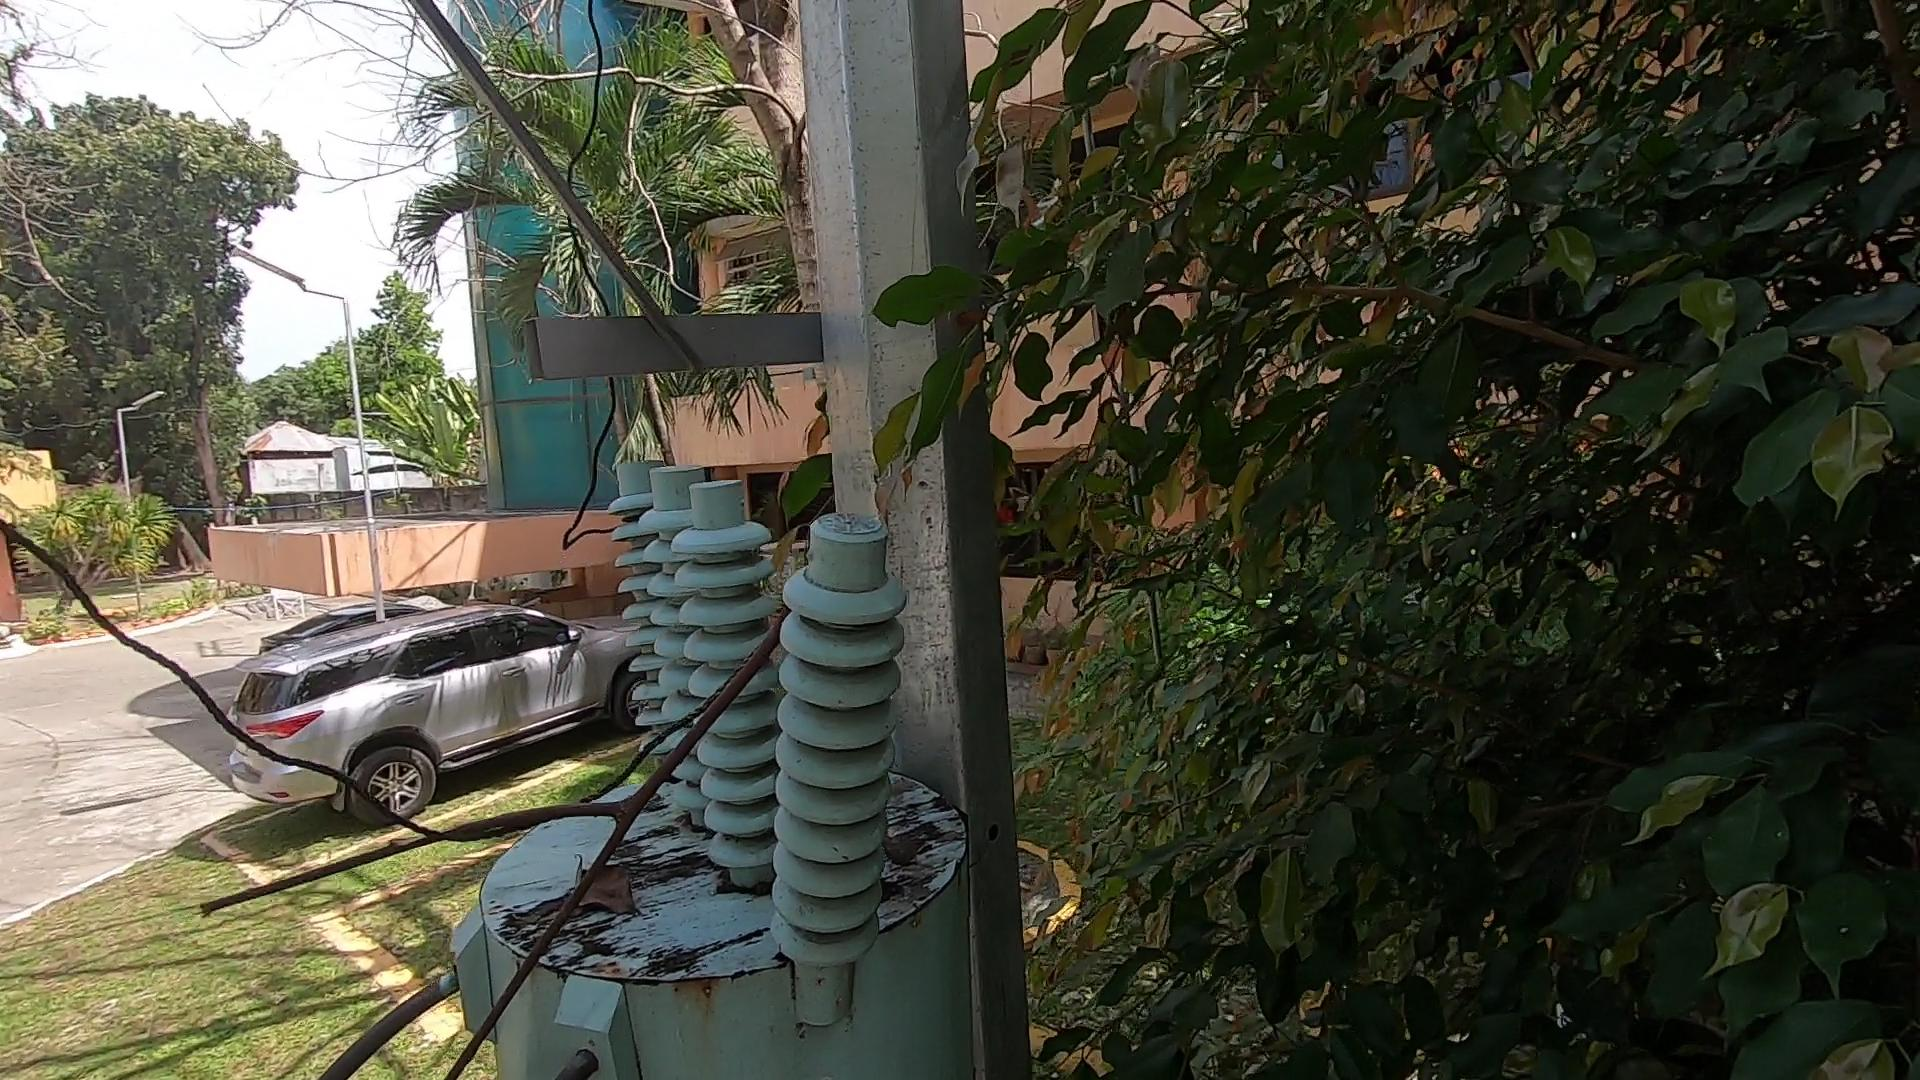leaf: (553, 848, 651, 916)
tree branch: (189, 605, 800, 1080)
